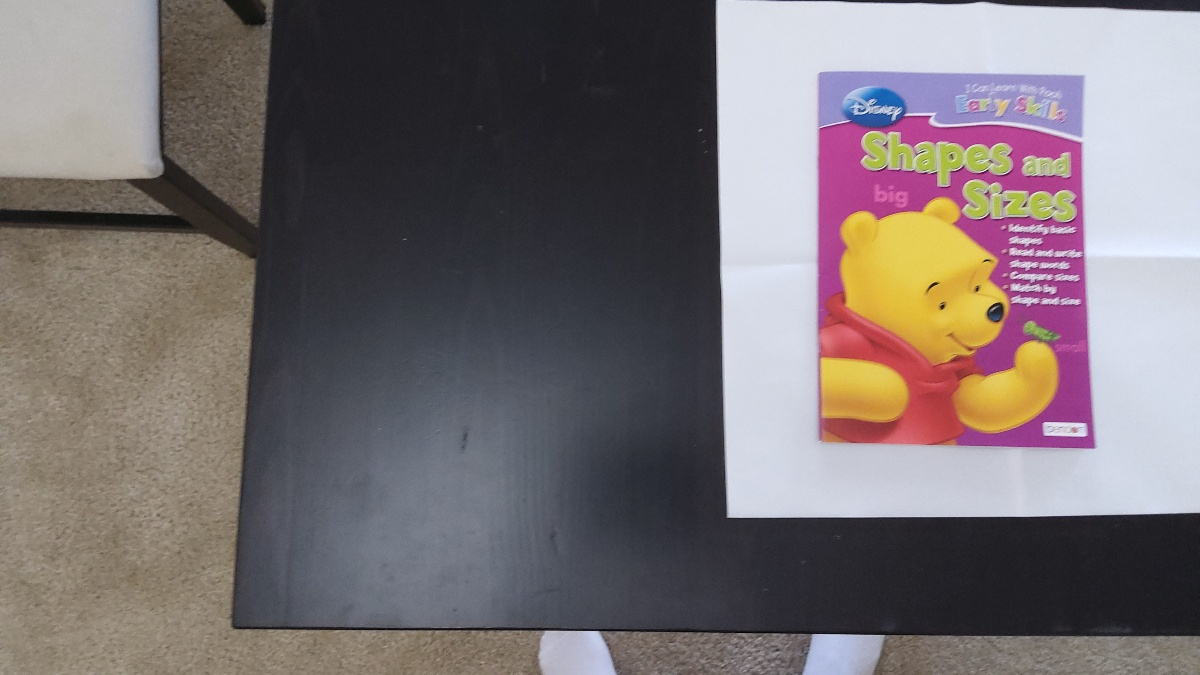book: (818, 76, 1087, 442)
